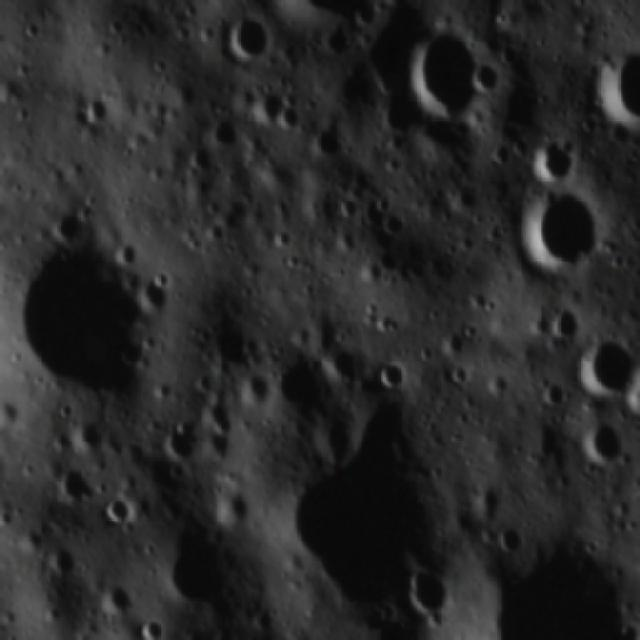crater: (270, 395, 444, 614), (14, 243, 152, 406), (486, 535, 632, 637), (398, 17, 498, 129), (155, 520, 260, 623), (512, 182, 606, 276), (583, 40, 639, 132), (571, 332, 637, 402), (274, 341, 331, 412), (573, 413, 632, 470), (401, 564, 453, 624), (209, 310, 256, 373), (527, 126, 576, 186), (226, 17, 274, 68), (49, 461, 100, 507), (48, 200, 90, 248), (159, 414, 198, 464), (213, 484, 250, 533), (322, 342, 363, 386), (304, 121, 344, 165), (135, 276, 174, 318), (470, 56, 508, 98), (69, 413, 106, 456), (547, 299, 584, 339), (100, 492, 138, 530), (248, 86, 282, 128), (96, 578, 133, 616), (374, 352, 409, 392), (240, 363, 272, 406), (318, 26, 356, 62), (182, 136, 216, 176), (531, 374, 567, 411), (46, 542, 80, 580), (117, 338, 149, 374), (377, 203, 409, 239), (274, 92, 301, 134), (75, 94, 110, 126), (207, 114, 239, 149), (111, 234, 143, 268), (480, 134, 512, 168), (470, 480, 501, 515), (494, 521, 524, 554), (463, 284, 494, 314), (331, 224, 360, 256), (444, 359, 473, 390), (133, 612, 167, 637), (270, 224, 298, 253), (332, 192, 358, 222), (373, 244, 399, 273), (53, 395, 79, 423), (189, 370, 214, 395), (44, 428, 70, 450), (22, 18, 44, 44), (198, 22, 220, 47), (372, 192, 393, 218)
